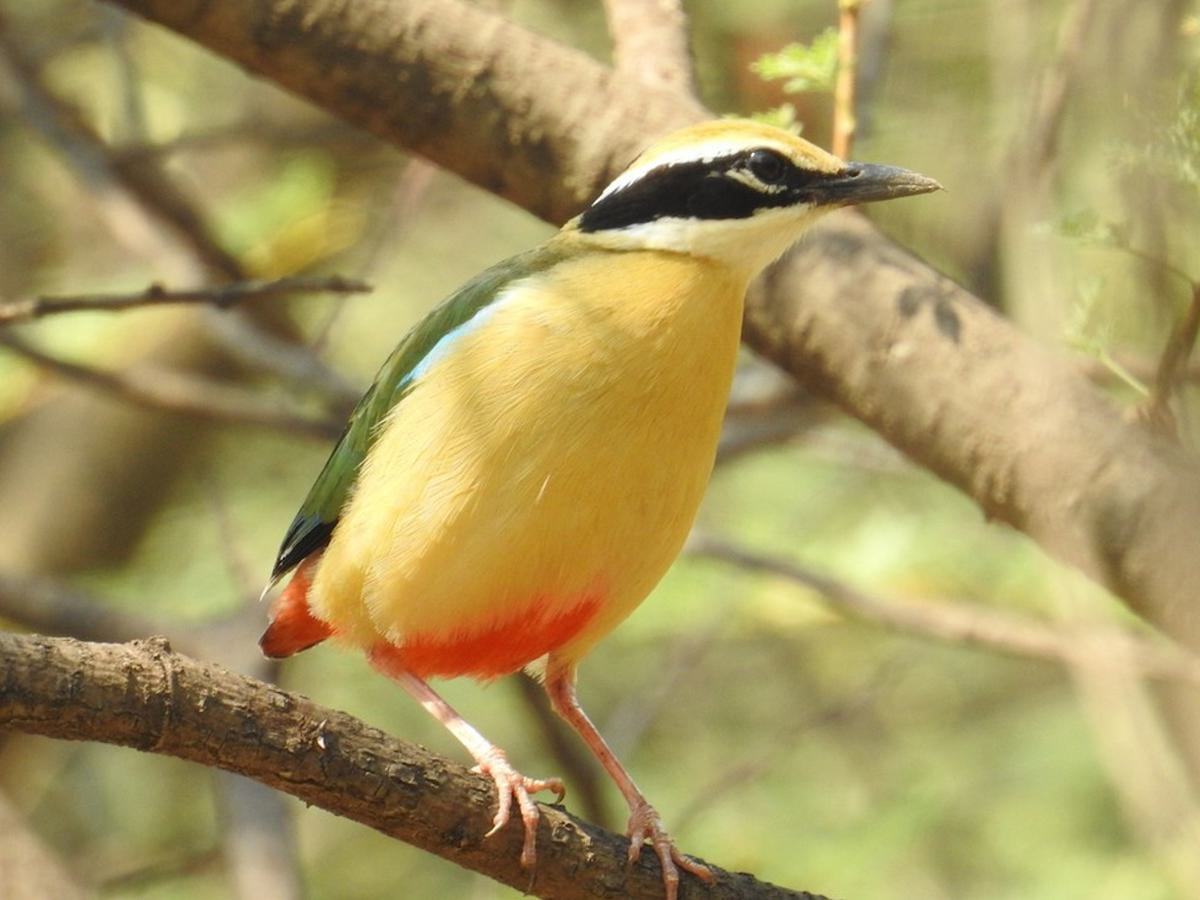pitta: (249, 94, 963, 815)
